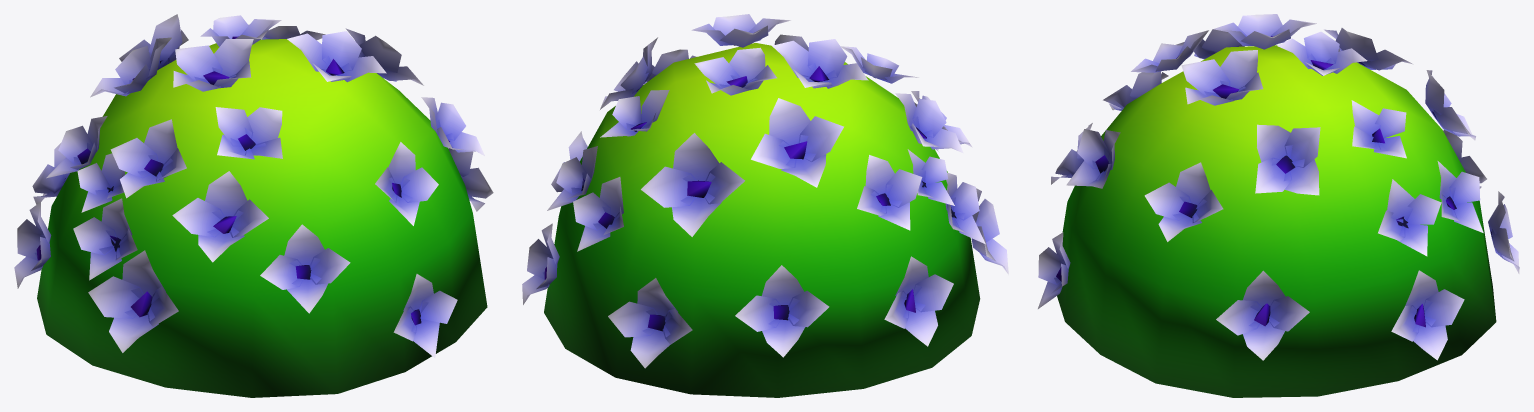
File: Bush2_LOD2.fbx
The picture shows the model from 3 angles, left to right: view 1: azimuth 30°, elevation 25°; view 2: azimuth 150°, elevation 25°; view 3: azimuth 270°, elevation 25°; orthographic projection.
Parts seen in each view (by area): view 1: Bush2; view 2: Bush2; view 3: Bush2.
Boxes of the visible parts, x1,y1,x2,y2 form: Bush2: (14, 14, 493, 397); Bush2: (522, 14, 1008, 397); Bush2: (1038, 14, 1519, 397).
Bounding box in the file's own units: 120 × 73.46 × 122.
1 material, 1 textured.
